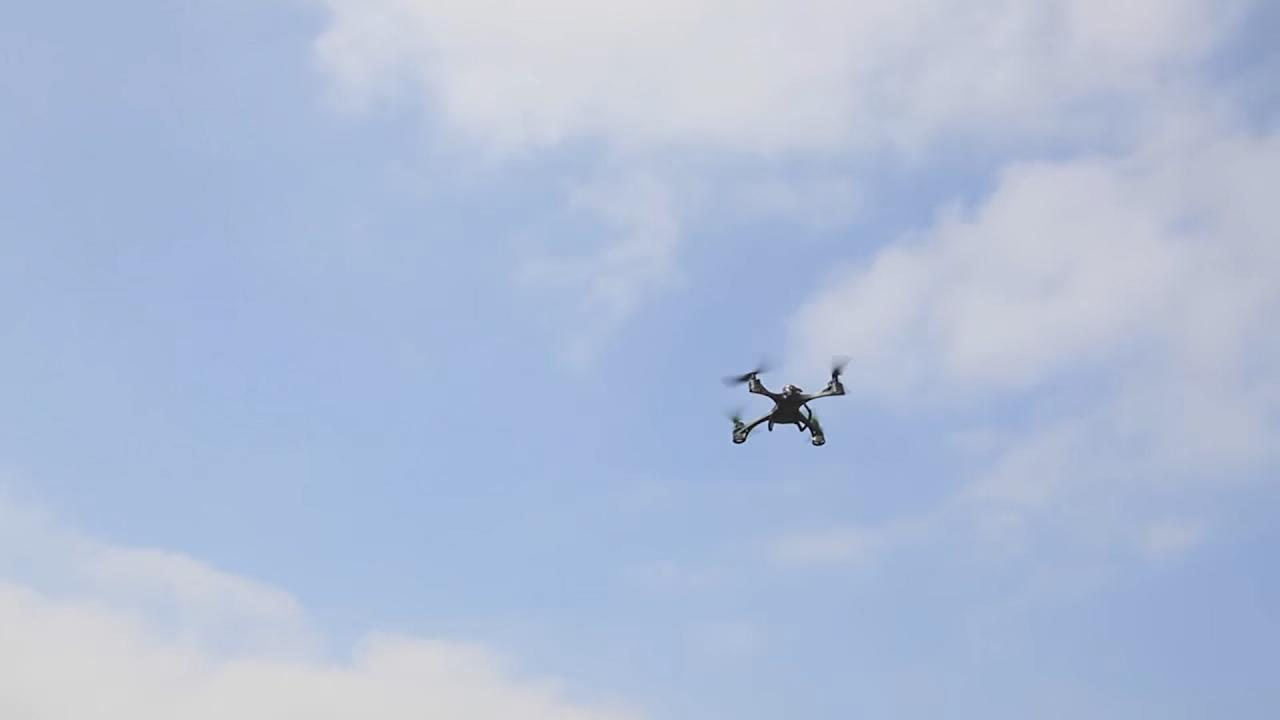Drone: (705, 338, 870, 461)
